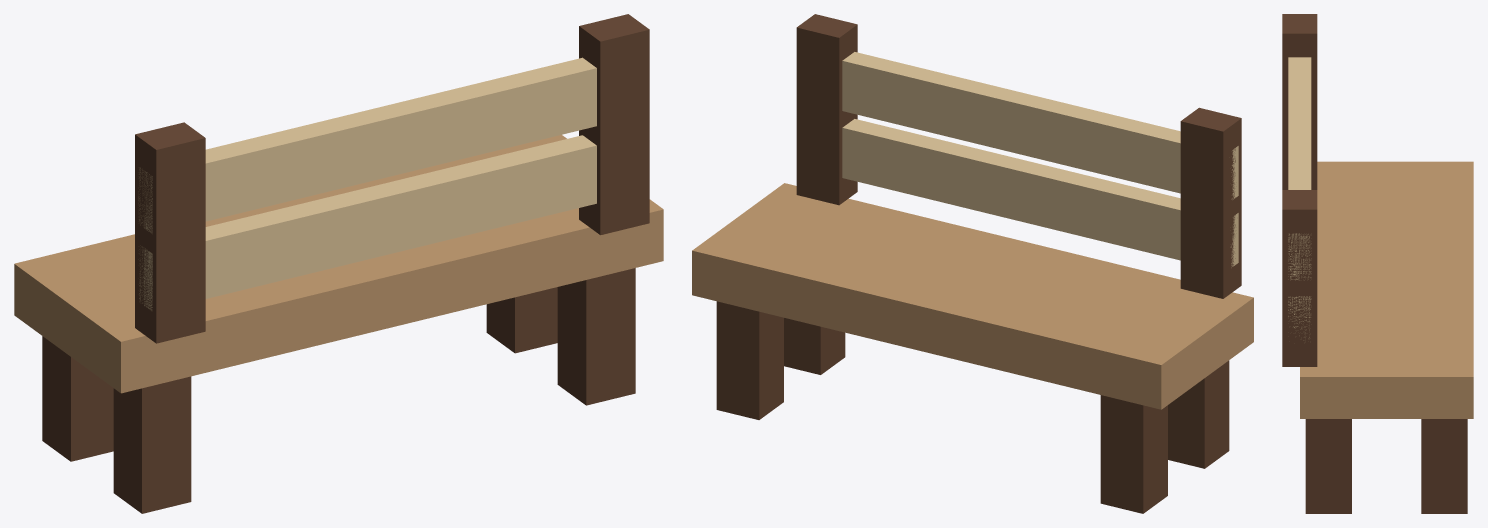
Rendered from deco_bench.obj.
3 renders of one model, left to right at view 1: azimuth 30°, elevation 25°; view 2: azimuth 150°, elevation 25°; view 3: azimuth 270°, elevation 25°, orthographic. The views are drawn at different scales.
Visible parts, largest first — view 1: deco_bench; view 2: deco_bench; view 3: deco_bench.
Part boxes in pixels (x1,y1,x2,y2): deco_bench: (14,14,663,513); deco_bench: (692,14,1253,513); deco_bench: (1282,14,1473,513).
Size of the model in its own units: 0.044 by 0.029 by 0.0165.
1 material, 1 textured.
